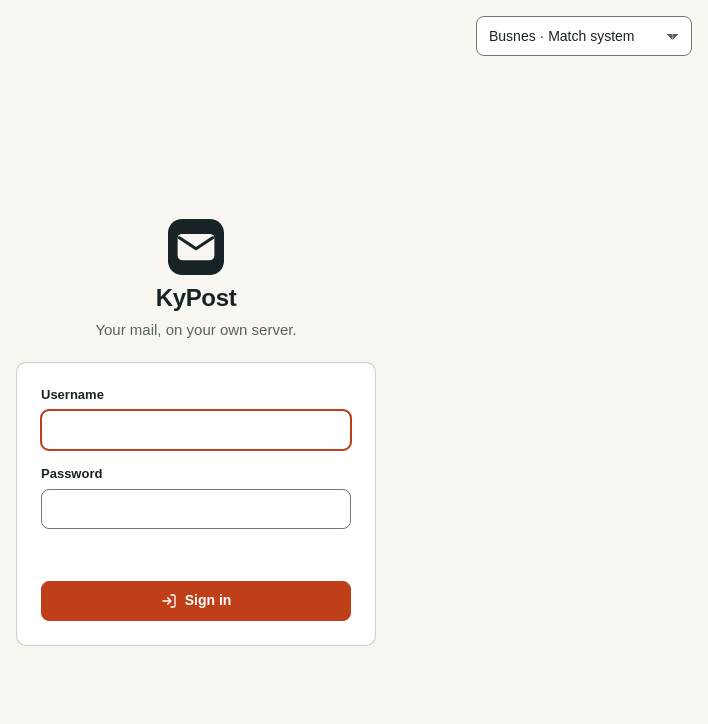
Test: login failure surfaces the server's own message › shows the pow expiry message instead of the generic credentials message
The image size is (708, 724).
Type "alice" into the field labelled "Username". click: [196, 430]
box: [41,410,351,450]
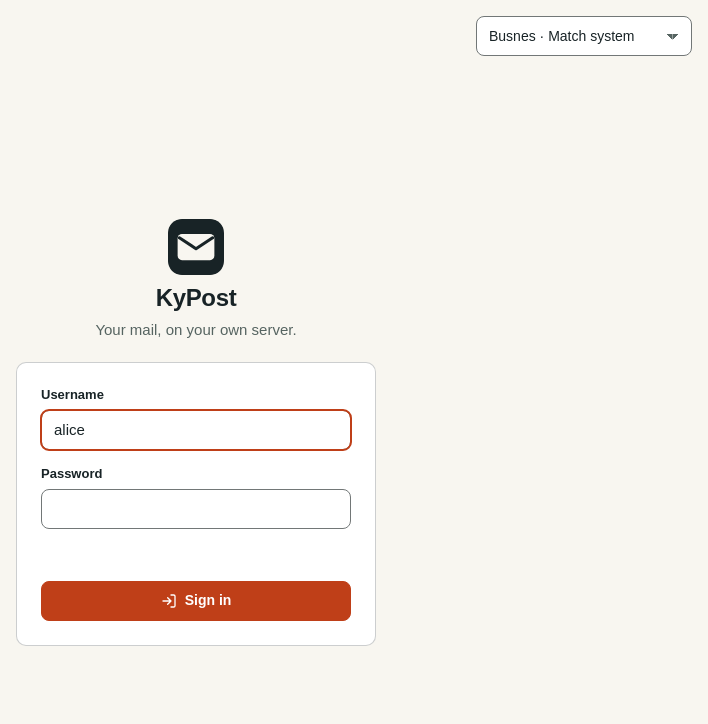
Type "whatever" into the password field labelled "Password". click: [196, 509]
box: [41,489,351,529]
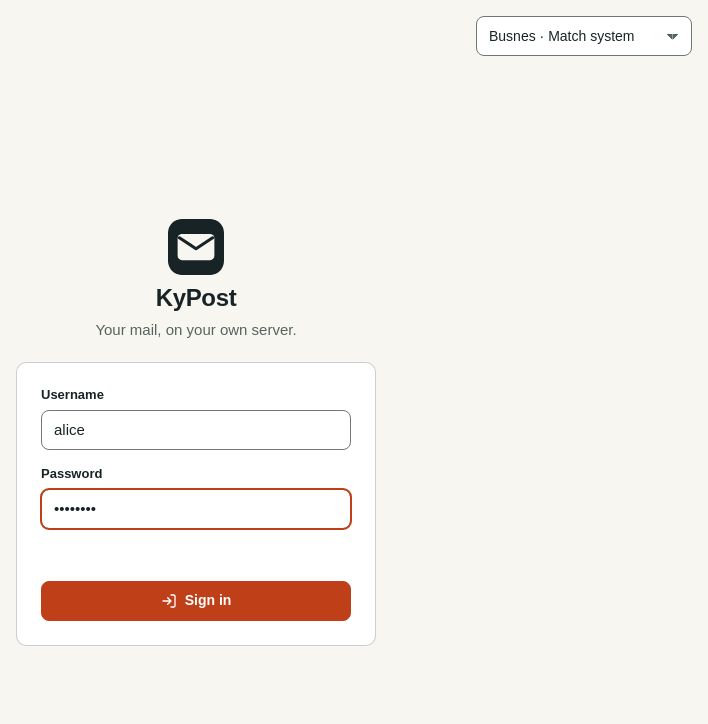
Click the button "Sign in". click: [196, 601]
box: [41,581,351,621]
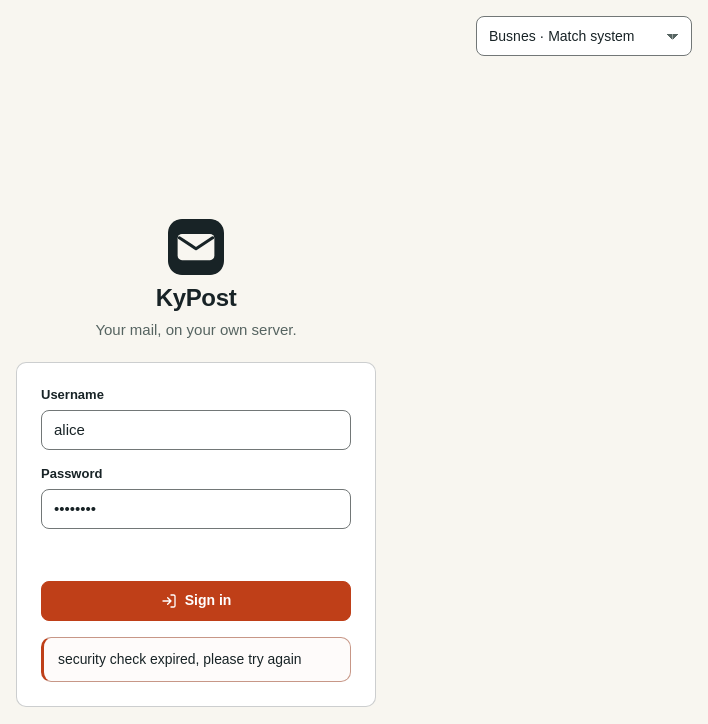
expect the message reads "security check expired, please try again": met, box [58,651,302,667]
